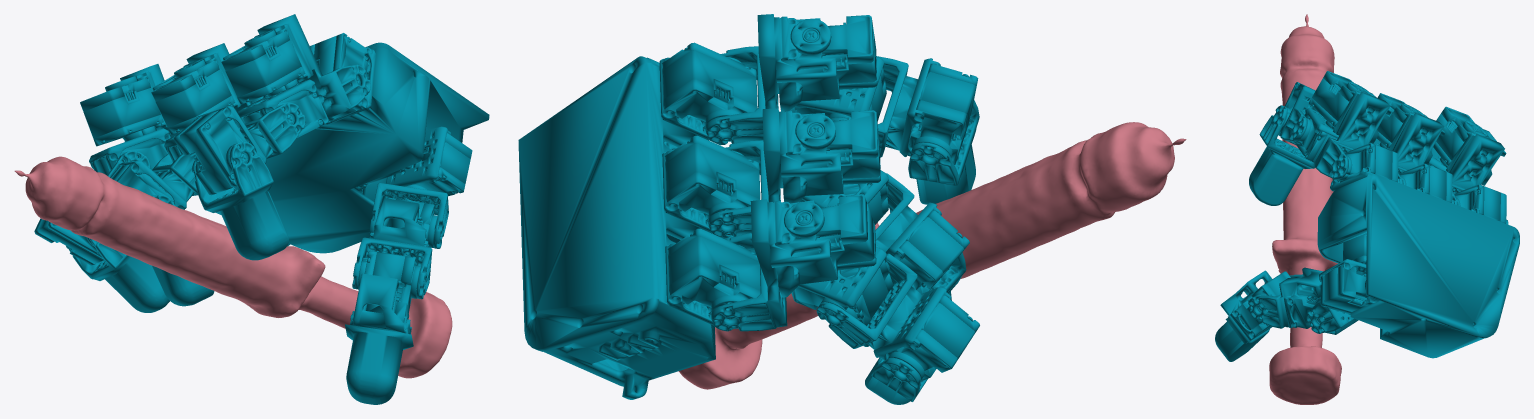
3 renders of one model, left to right at view 1: azimuth 30°, elevation 25°; view 2: azimuth 150°, elevation 25°; view 3: azimuth 270°, elevation 25°, orthographic. The views are drawn at different scales.
Parts seen in each view (by area): view 1: world; view 2: world; view 3: world.
Part boxes in pixels (bbox=[...]): world: bbox=[14, 14, 489, 404]; world: bbox=[518, 14, 1186, 404]; world: bbox=[1215, 14, 1519, 404].
Bounding box in the file's own units: 0.2884 × 0.1883 × 0.1844.
